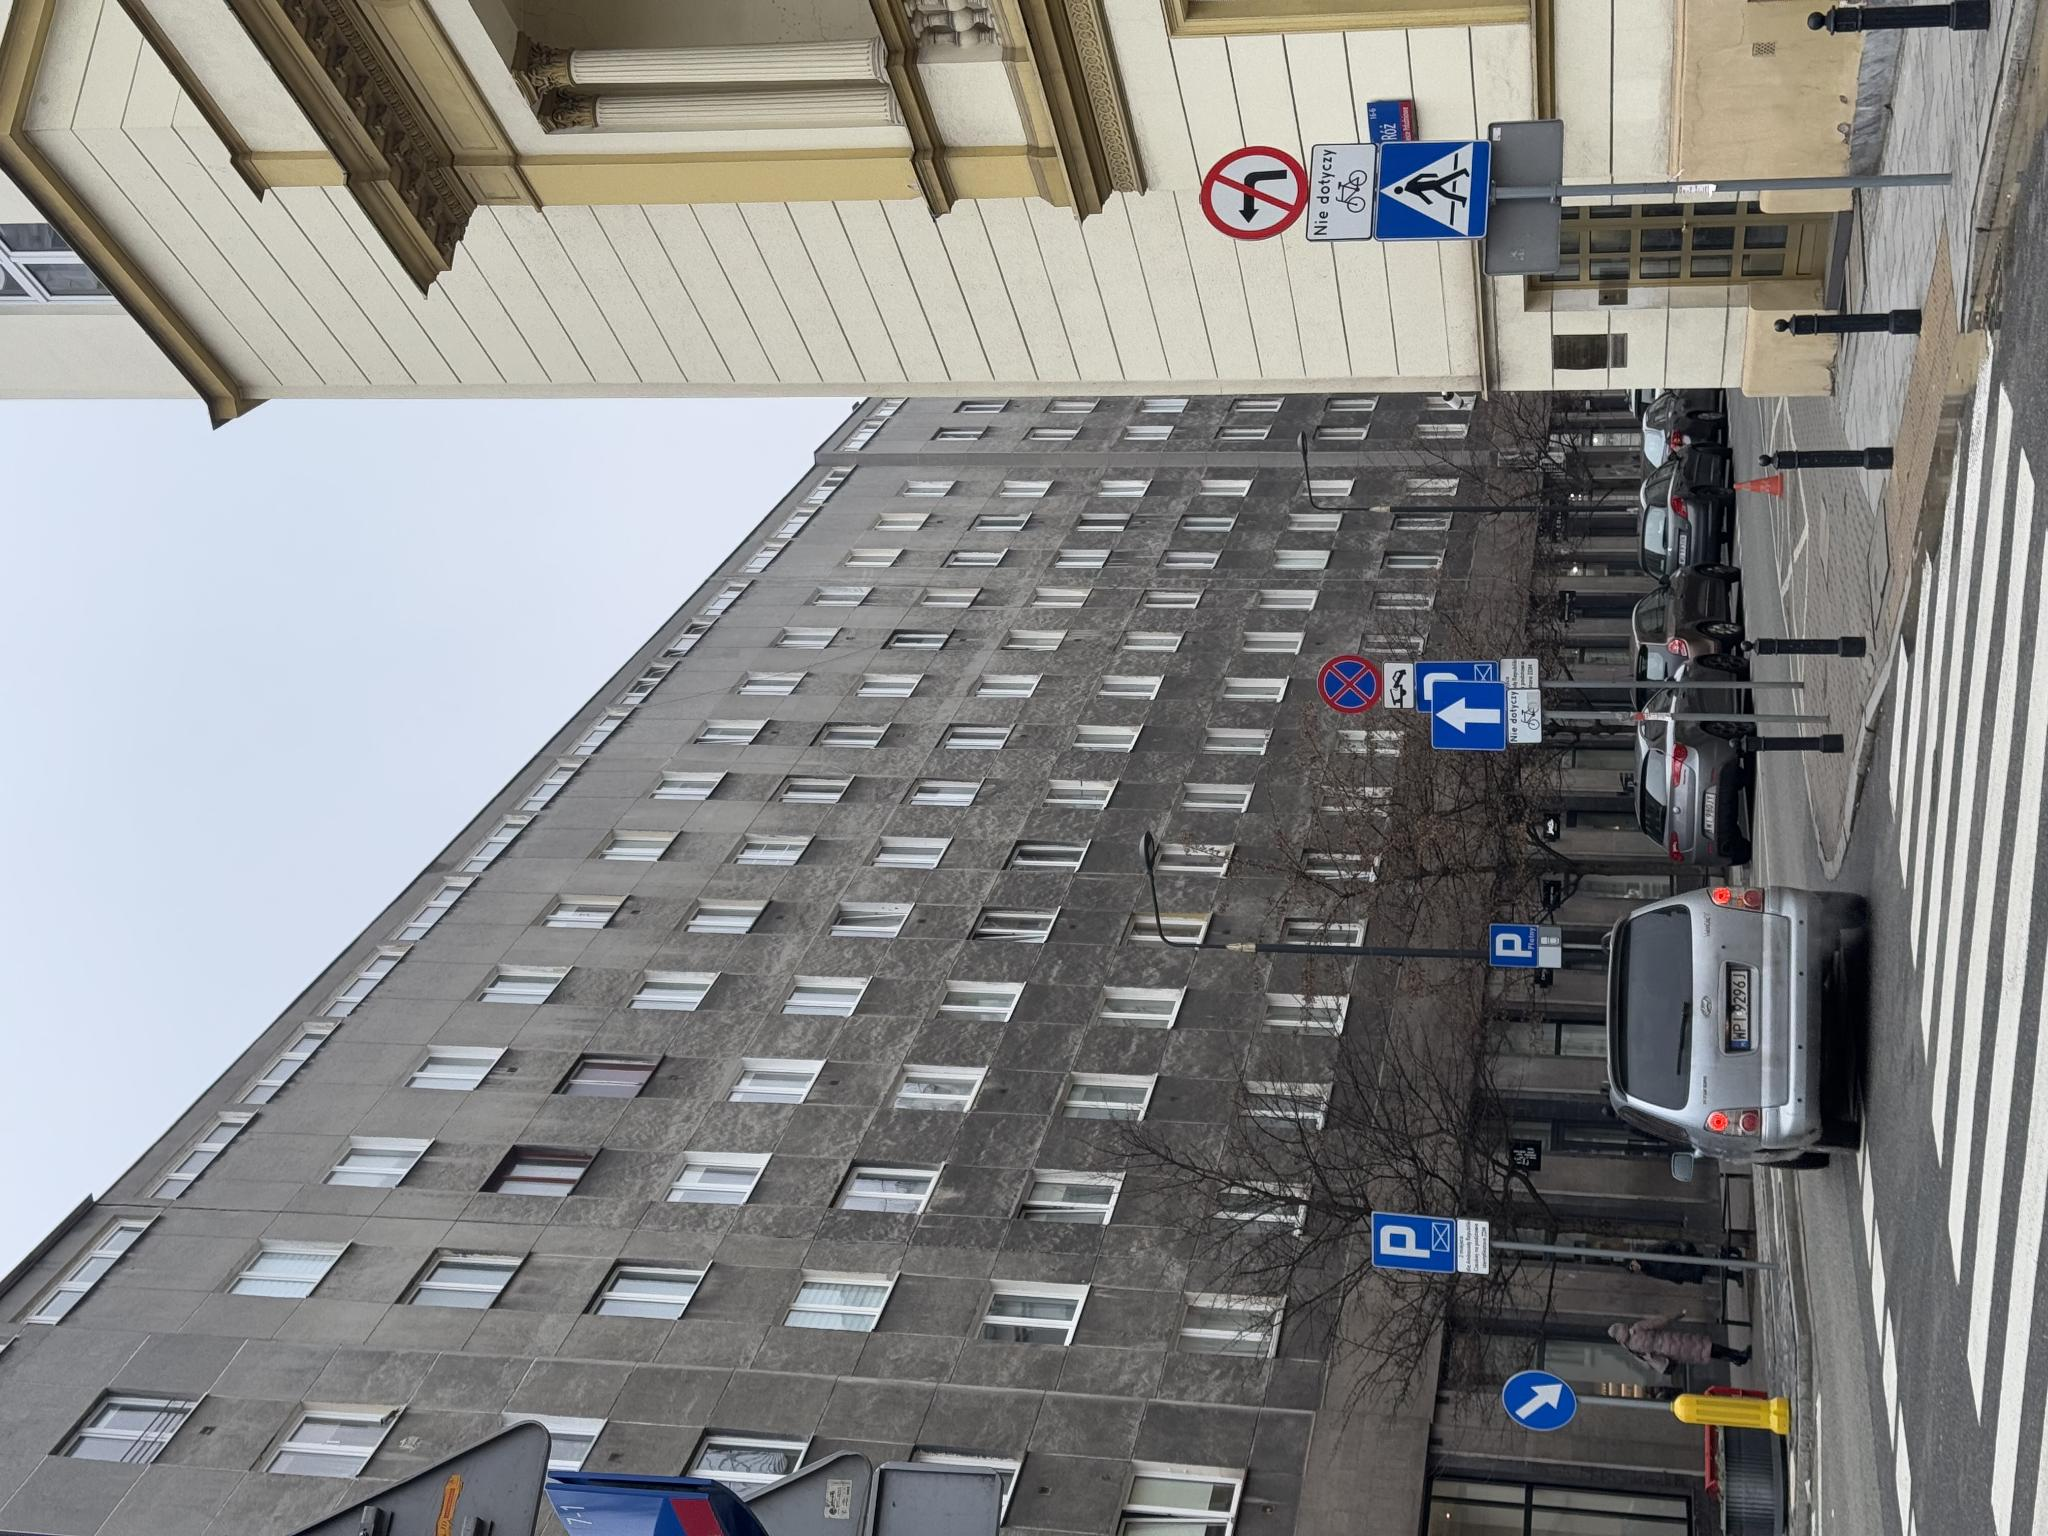information: (1295, 1375, 1395, 1489), (263, 1370, 326, 1455), (785, 1431, 856, 1505), (824, 1417, 877, 1497), (568, 1488, 613, 1536)
mandatory: (102, 1501, 169, 1536)
other: (1293, 1305, 1393, 1376), (261, 1457, 318, 1491), (792, 1505, 848, 1536), (827, 1383, 874, 1415)
prohibitory: (1293, 1199, 1390, 1307), (821, 1315, 882, 1383)
